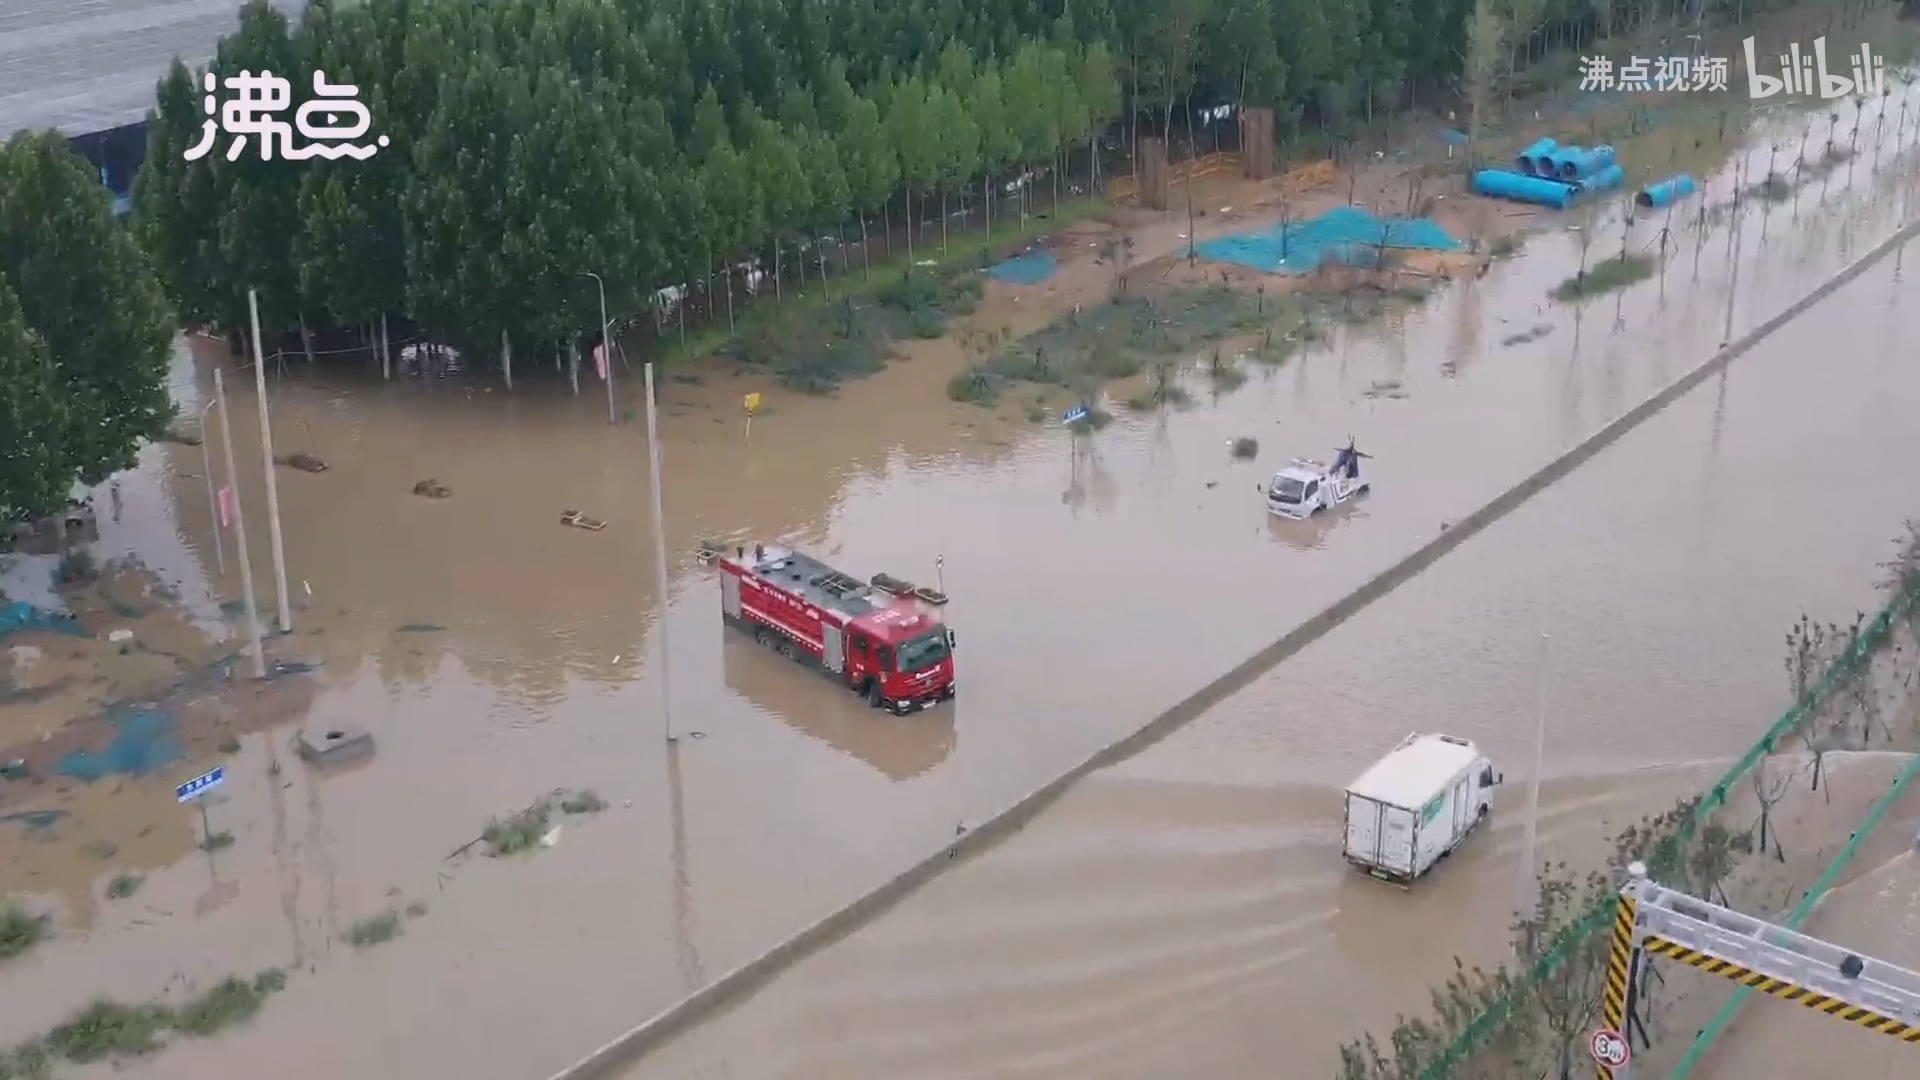puddle: (179, 324, 1490, 1080)
